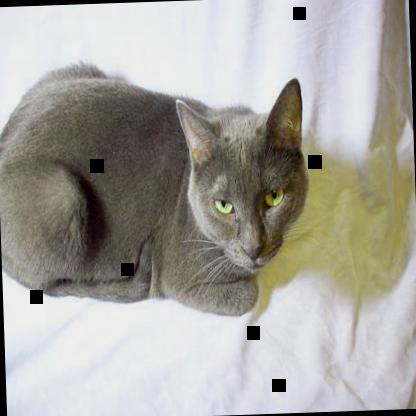cat: (0, 58, 314, 330)
